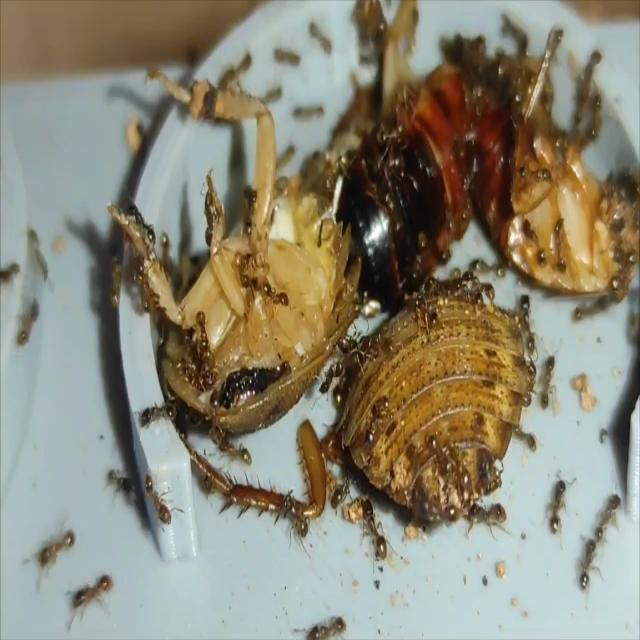Minor: (360, 494, 396, 570), (144, 466, 184, 532), (134, 397, 177, 439)
